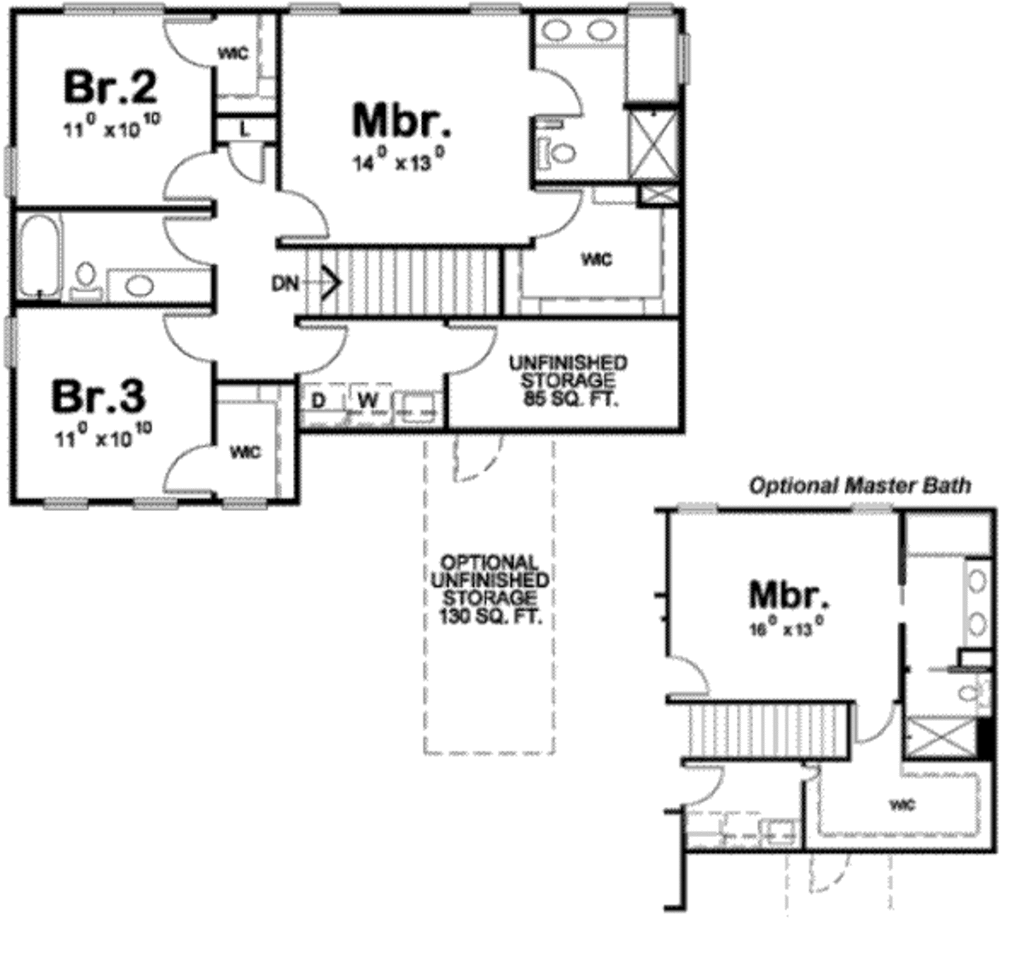door: (523, 176, 588, 247), (280, 316, 351, 380), (438, 317, 510, 380), (158, 209, 231, 264), (144, 147, 217, 201), (270, 190, 343, 242), (444, 423, 505, 485), (658, 642, 721, 699), (165, 13, 224, 72), (157, 305, 217, 361), (530, 65, 587, 120), (164, 440, 222, 492), (808, 856, 863, 900), (219, 137, 271, 182), (675, 761, 724, 807), (855, 695, 894, 748), (789, 765, 844, 791)
large_sink: (517, 128, 589, 178), (71, 256, 110, 301), (954, 678, 1001, 710)
small_sink: (526, 7, 624, 52), (111, 262, 212, 302), (961, 554, 1000, 654)
stairs: (272, 238, 521, 333), (675, 700, 857, 758)
tub: (14, 209, 62, 296)
window: (59, 1, 159, 21), (217, 490, 272, 516), (38, 492, 94, 514), (132, 491, 176, 516), (7, 145, 23, 205), (284, 1, 348, 15), (3, 314, 17, 374), (470, 3, 520, 16)
